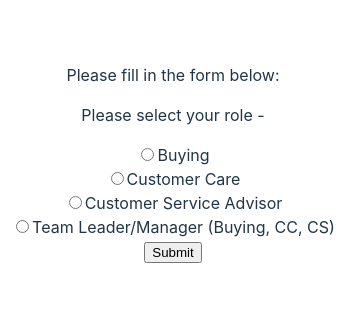
it: Onboard Component › selects the Buying role and displays the relevant teams
Step 1. Click the radio button labelled "Buying" → (148, 154), box [142,148,154,161]
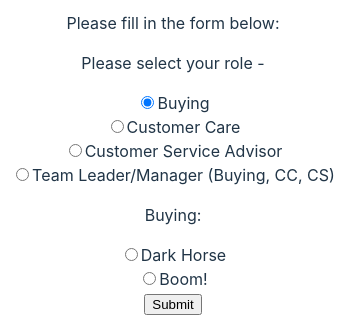
Result: the radio button labelled "Buying" is checked at [142,96,154,109]
Result: the radio button labelled "Dark Horse" is shown at [125,248,138,261]
Result: the radio button labelled "Boom!" is shown at [143,272,156,285]
